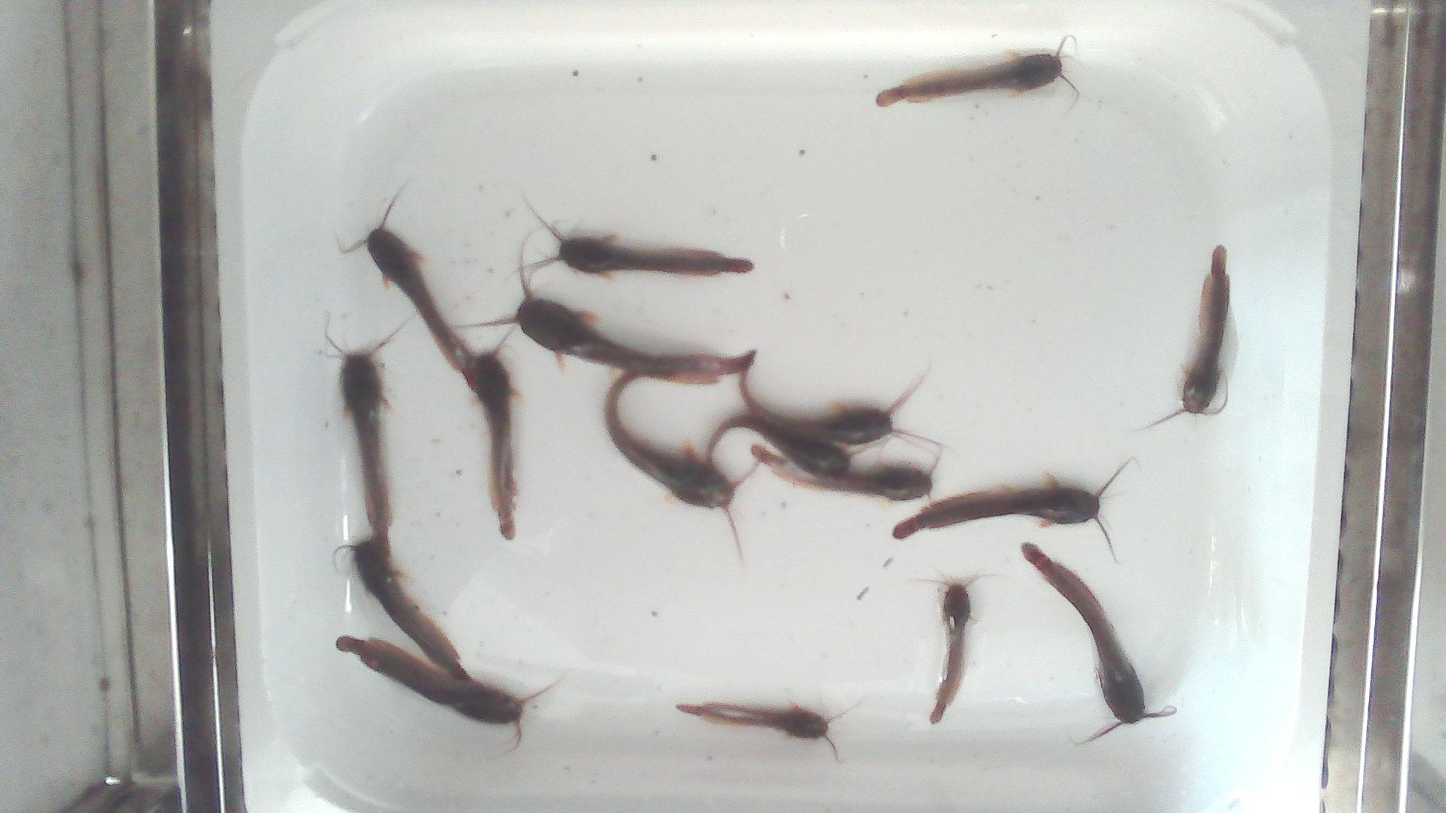lele: (461, 265, 755, 384), (1021, 543, 1175, 741), (603, 375, 752, 558), (343, 192, 479, 379), (892, 459, 1133, 562), (336, 634, 563, 740), (334, 539, 478, 681), (739, 371, 941, 457), (324, 335, 392, 560), (1146, 245, 1229, 427), (876, 47, 1071, 107), (751, 445, 935, 502), (545, 227, 753, 276), (465, 351, 517, 539), (708, 417, 851, 477), (676, 702, 835, 754), (929, 580, 972, 724), (834, 712, 846, 717)
